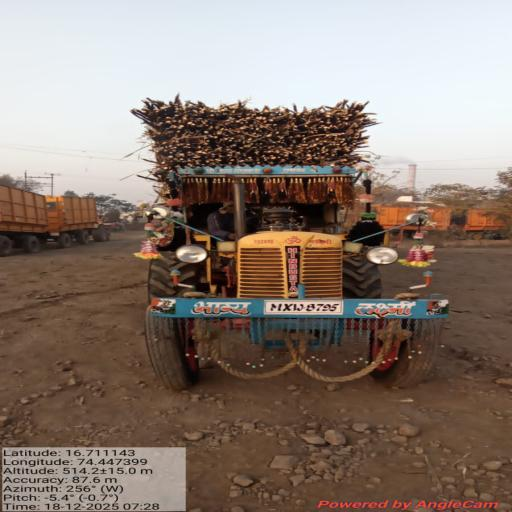number_plate: (264, 301, 343, 315)
